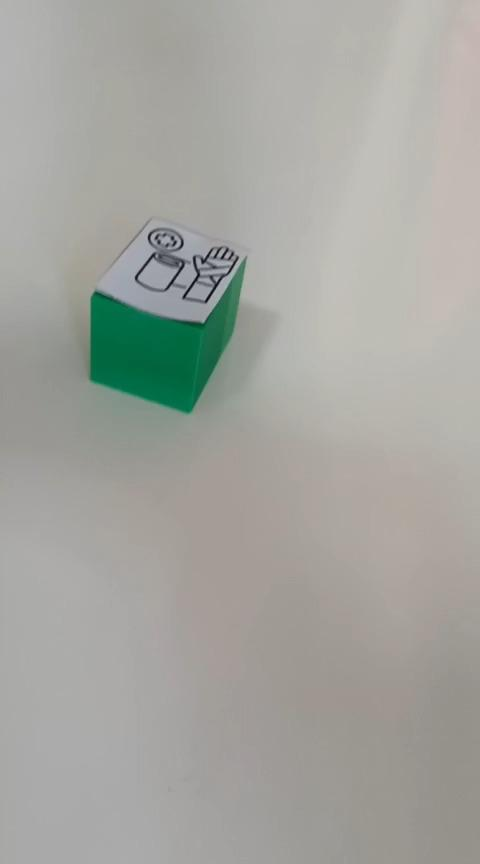Bandages: (88, 215, 250, 414)
